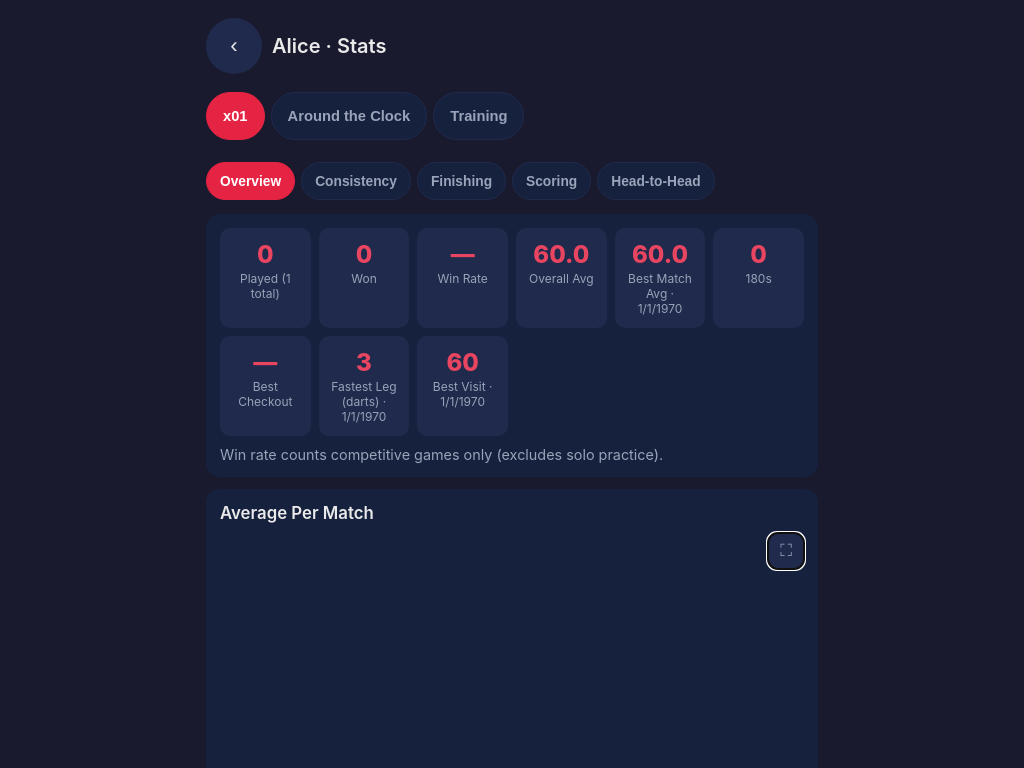
Test: player profiles › PlayerStats charts expand into a fullscreen viewer and close on Escape
Click the button named "Expand Average Per Match chart" at (786, 551), box x1=768 y1=533 x2=804 y2=569
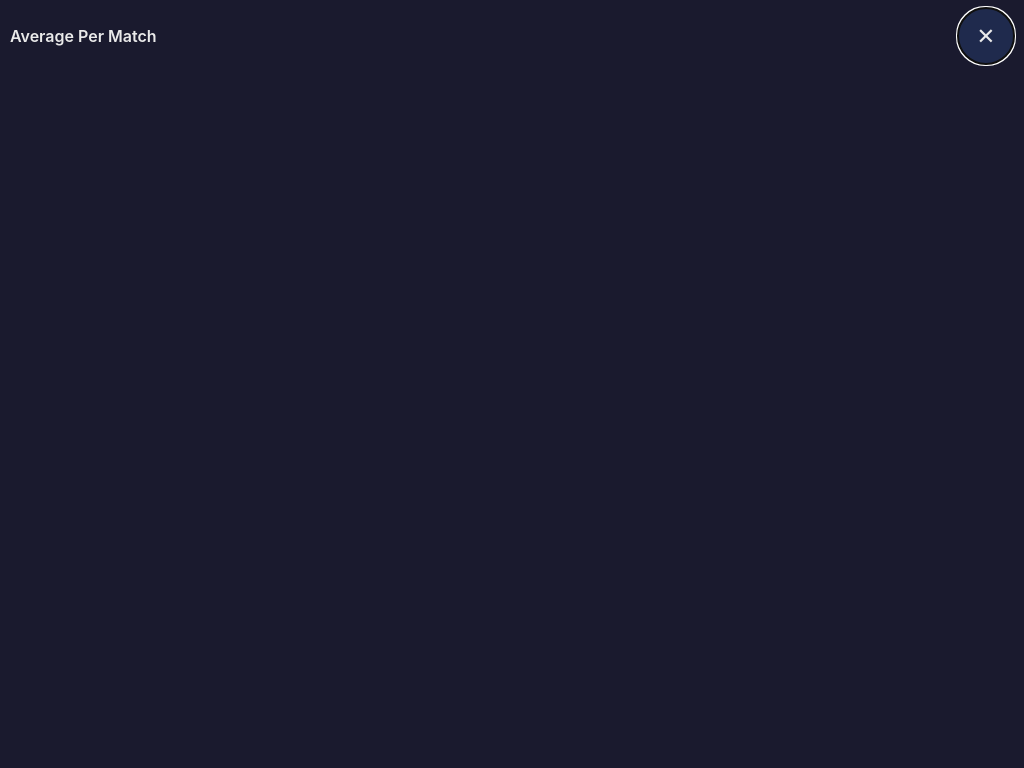
// Escape dismisses and focus returns to the expand button.
Press Escape in the dialog named "Average Per Match chart"
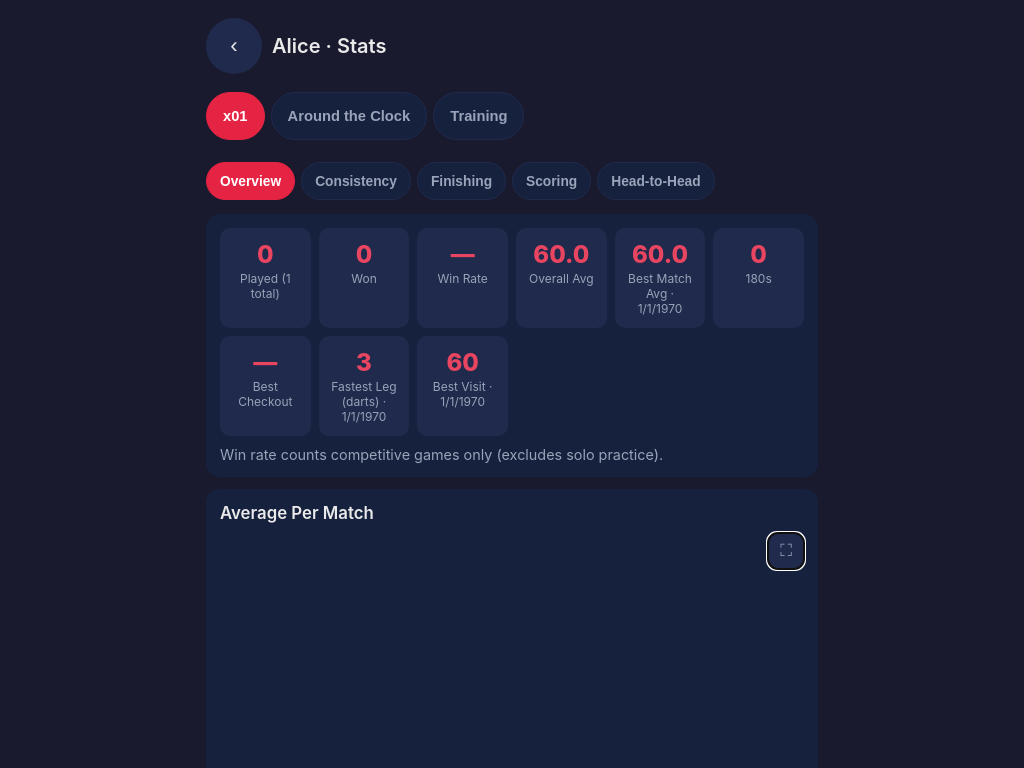
Expected: the dialog is gone
